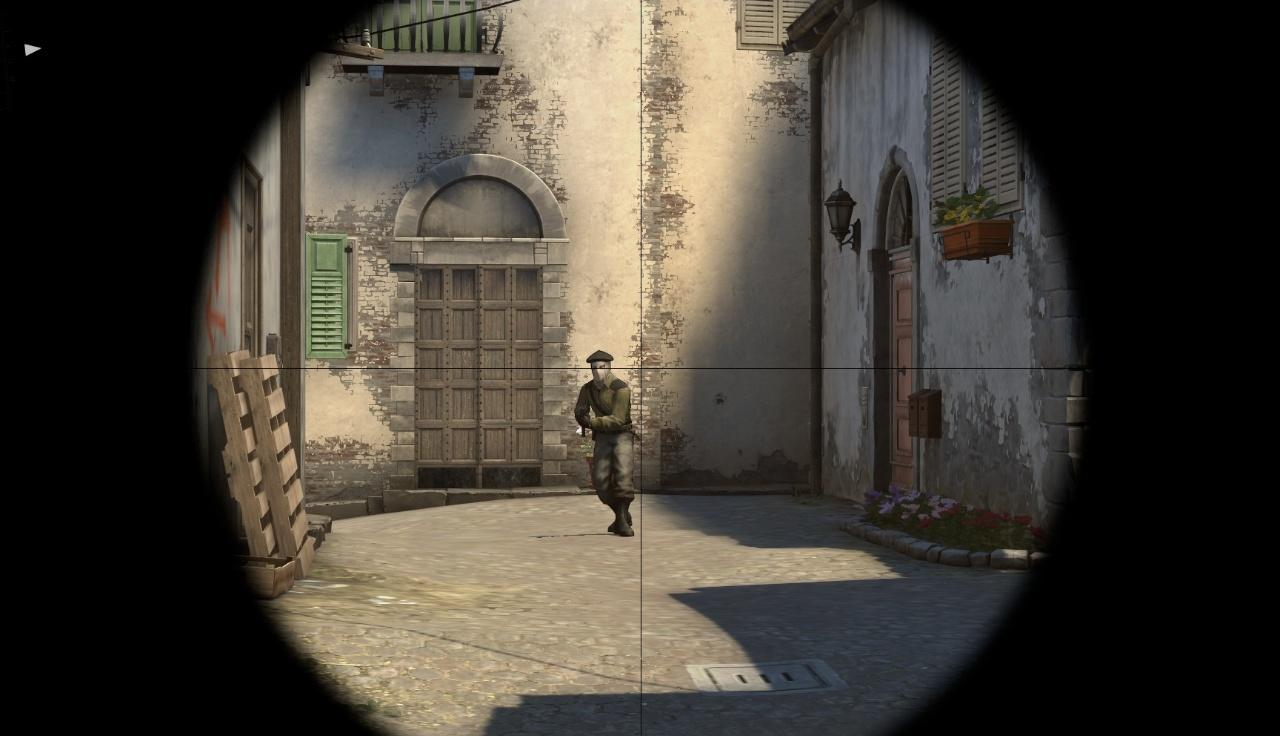tt: (582, 349, 635, 537)
tthead: (586, 349, 613, 381)
